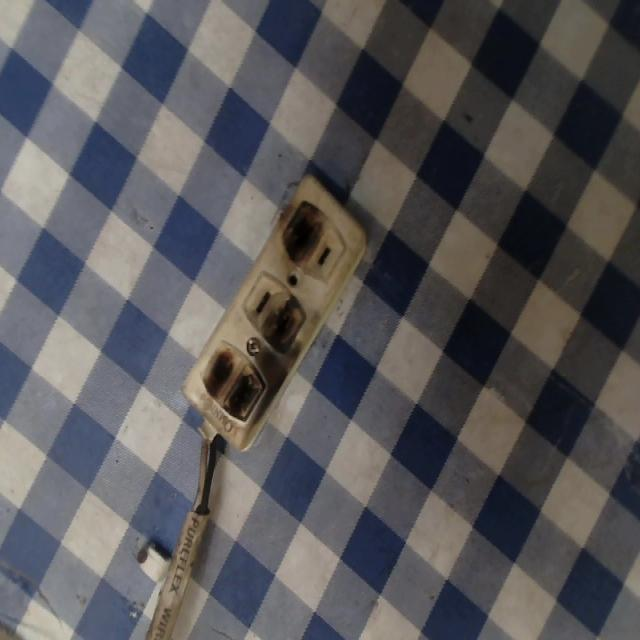-: (199, 341, 264, 431), (281, 189, 323, 272), (266, 293, 307, 360)
